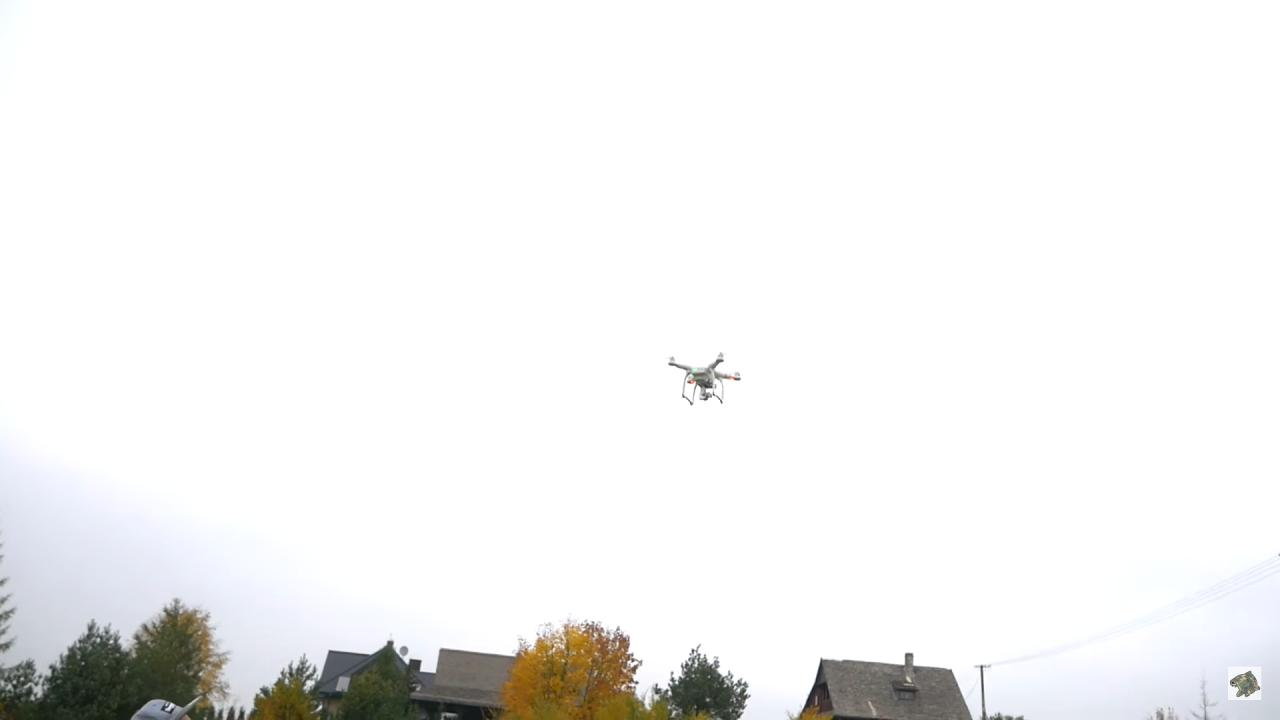Drone: (658, 347, 752, 415)
